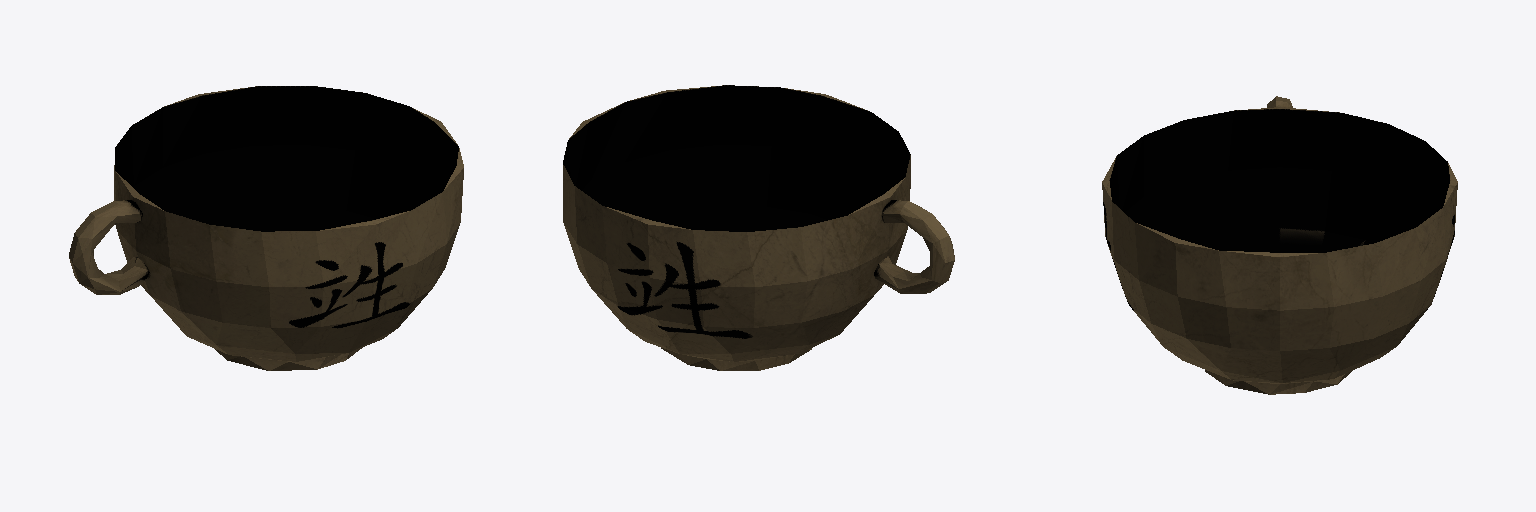
3 views of the same model, side by side, from view 1: azimuth 30°, elevation 25°; view 2: azimuth 150°, elevation 25°; view 3: azimuth 270°, elevation 25° (orthographic).
Visible parts, largest first — view 1: cup; view 2: cup; view 3: cup.
Part boxes in pixels (bbox=[...]): cup: bbox=[69, 86, 463, 370]; cup: bbox=[563, 85, 954, 370]; cup: bbox=[1102, 96, 1457, 394].
Size of the model in its own units: 32.07 by 14.94 by 26.67.
1 materials, 1 textured.